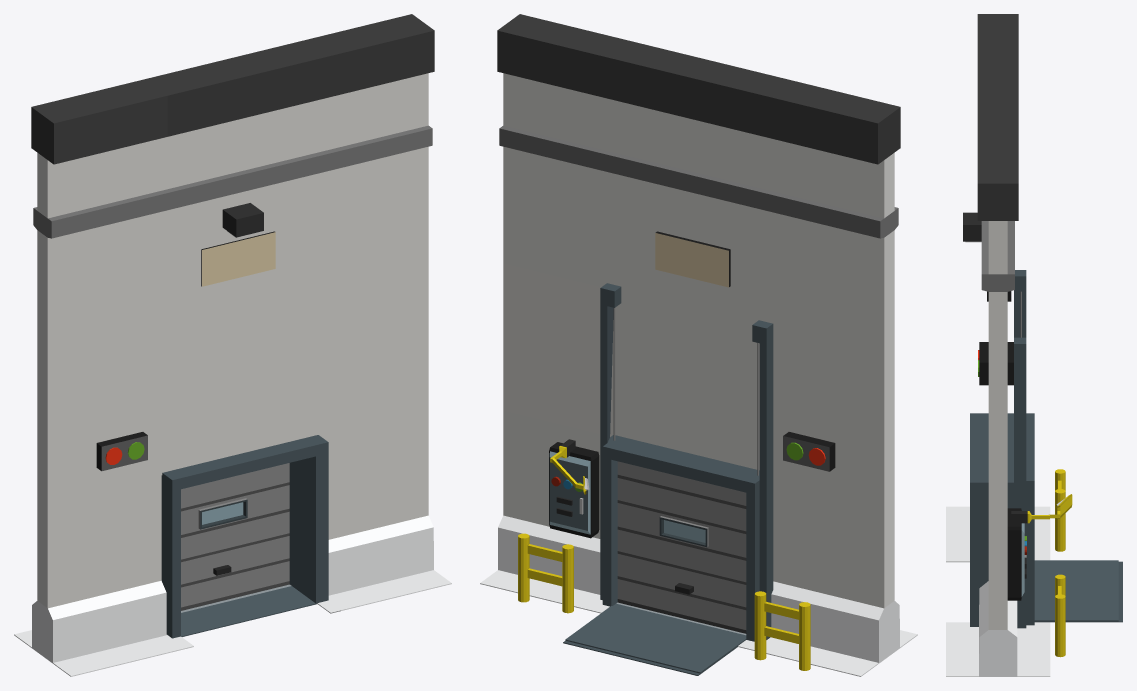
File: ShippingDoor.fbx
3 views of the same model, side by side, from view 1: azimuth 30°, elevation 25°; view 2: azimuth 150°, elevation 25°; view 3: azimuth 270°, elevation 25° (orthographic). The views are drawn at different scales.
Parts seen in each view (by area): view 1: DoorParent, Mantle, Door, DoorNumber, LightExterior, DoorLights; view 2: DoorParent, Mantle, Door, DoorPanel, DoorNumber, BarrierRight, BarrierRight.001, DoorLights; view 3: DoorParent, Mantle, DoorPanel, BarrierRight.001, BarrierRight, DoorLights, LightExterior.
Part boxes in pixels (<box>): DoorParent: <box>14,14,451,676</box>; Mantle: <box>161,435,328,638</box>; Door: <box>181,463,289,610</box>; DoorNumber: <box>201,231,275,286</box>; LightExterior: <box>222,203,263,237</box>; DoorLights: <box>96,432,147,471</box>; DoorParent: <box>480,14,917,676</box>; Mantle: <box>563,283,773,675</box>; Door: <box>617,461,746,633</box>; DoorPanel: <box>549,439,599,538</box>; DoorNumber: <box>655,231,730,287</box>; BarrierRight: <box>754,591,810,670</box>; BarrierRight.001: <box>518,533,573,613</box>; DoorLights: <box>783,432,835,471</box>; DoorParent: <box>946,14,1050,676</box>; Mantle: <box>970,270,1122,628</box>; DoorPanel: <box>1007,494,1072,600</box>; BarrierRight.001: <box>1055,574,1065,657</box>; BarrierRight: <box>1055,469,1065,551</box>; DoorLights: <box>979,342,1013,385</box>; LightExterior: <box>963,212,981,241</box>.
Size of the model in its own units: 6.63 by 2.92 by 9.
